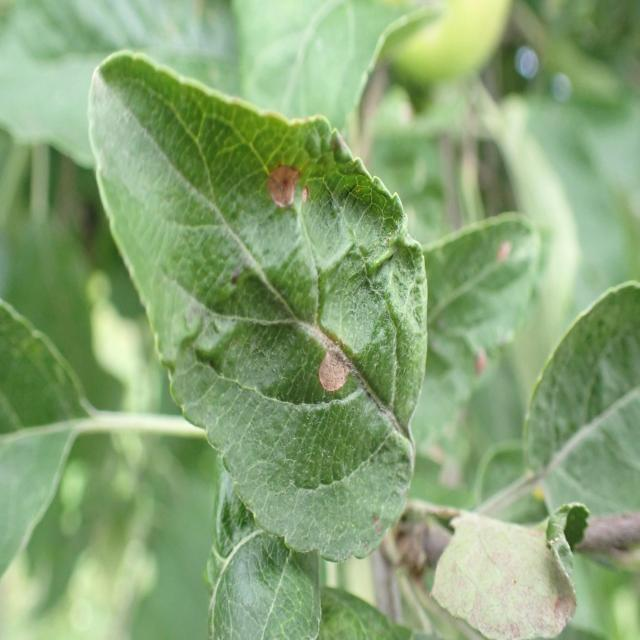Black Rot: (303, 338, 357, 431), (255, 152, 315, 225)
